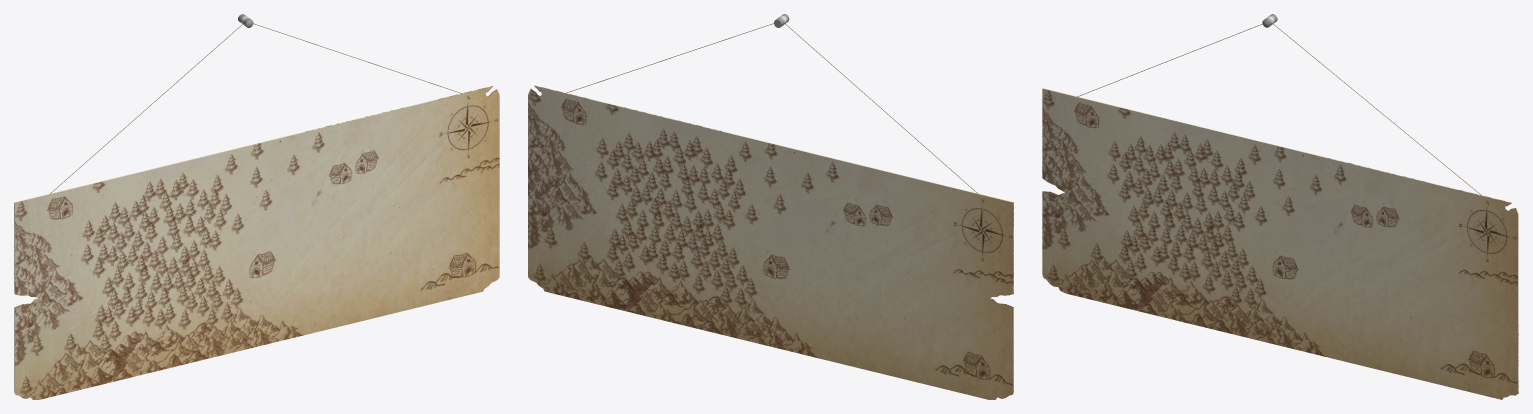
Rendered from Map.FBX.
The picture shows the model from 3 angles, left to right: view 1: azimuth 30°, elevation 25°; view 2: azimuth 150°, elevation 25°; view 3: azimuth 330°, elevation 25°; orthographic projection.
Visible parts, largest first — view 1: Box001; view 2: Box001; view 3: Box001.
Boxes of the visible parts, x1=… form: Box001: x1=14, y1=86, x2=499, y2=399; Box001: x1=528, y1=85, x2=1013, y2=399; Box001: x1=1042, y1=88, x2=1518, y2=399.
Bounding box in the file's own units: 25 × 16.36 × 0.7635.
3 materials, 3 textured.
